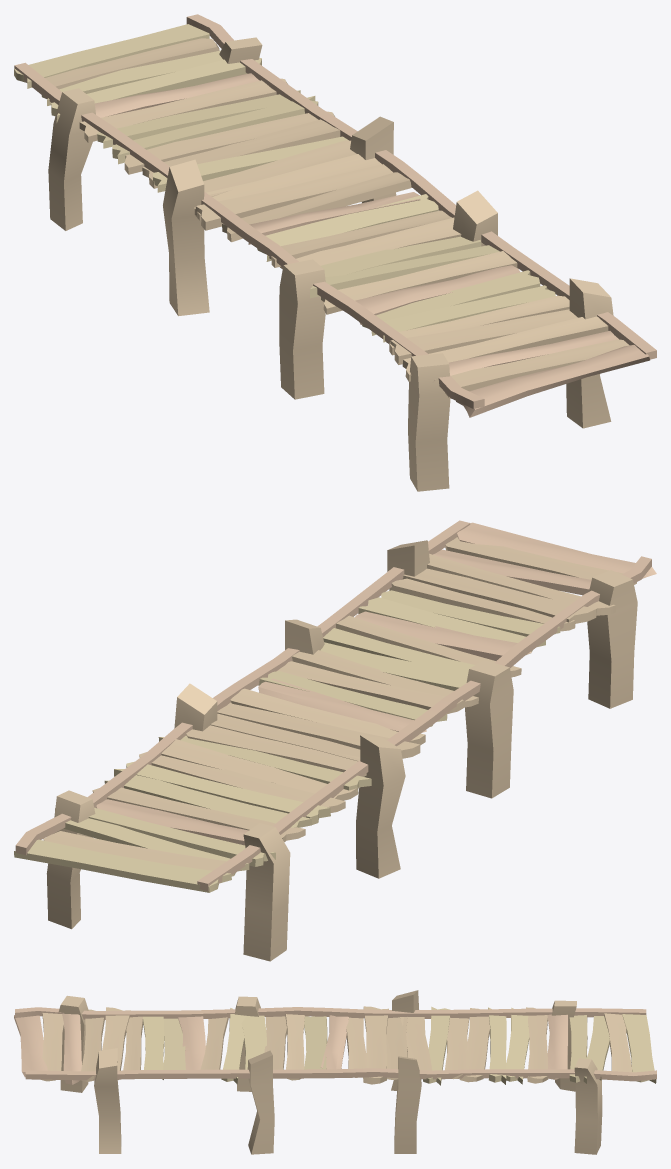
The model's file is decoration_bridge.glb.
3 views of the same model, one above another, from view 1: azimuth 30°, elevation 25°; view 2: azimuth 150°, elevation 25°; view 3: azimuth 270°, elevation 25° (orthographic). The views are drawn at different scales.
Parts seen in each view (by area): view 1: Boat_Dock; view 2: Boat_Dock; view 3: Boat_Dock.
Boxes of the visible parts, bbox=[...] form: Boat_Dock: bbox=[14, 14, 656, 491]; Boat_Dock: bbox=[14, 520, 656, 961]; Boat_Dock: bbox=[14, 990, 656, 1154].
Bounding box in the file's own units: 443 × 263 × 1590.
